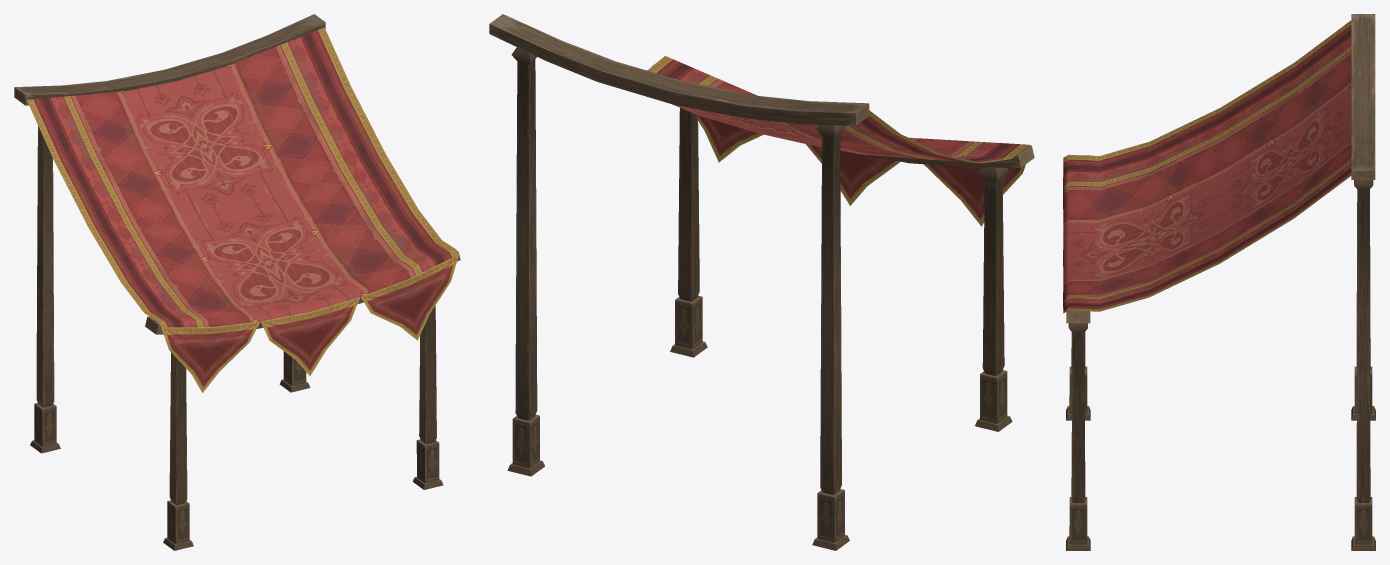
The model's file is Homeworld_Exterior_Xm_Build_Prop_RedShadow_01_Lod0.fbx.
3 renders of one model, left to right at view 1: azimuth 30°, elevation 25°; view 2: azimuth 150°, elevation 25°; view 3: azimuth 270°, elevation 25°, orthographic. The views are drawn at different scales.
Visible parts, largest first — view 1: Area_Xm_Prop_XKC_Tanwei_NoShadow_14_Lod0; view 2: Area_Xm_Prop_XKC_Tanwei_NoShadow_14_Lod0; view 3: Area_Xm_Prop_XKC_Tanwei_NoShadow_14_Lod0.
Boxes of the visible parts, x1,y1,x2,y2 form: Area_Xm_Prop_XKC_Tanwei_NoShadow_14_Lod0: (14, 14, 460, 550); Area_Xm_Prop_XKC_Tanwei_NoShadow_14_Lod0: (489, 14, 1034, 550); Area_Xm_Prop_XKC_Tanwei_NoShadow_14_Lod0: (1063, 14, 1375, 550).
Bounding box in the file's own units: 5.16 × 5.87 × 4.28.
